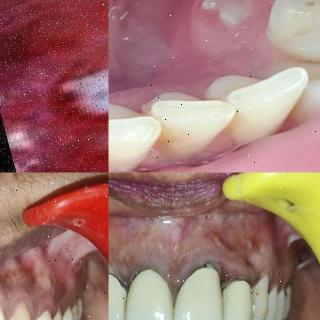Gum Swelling: (108, 240, 276, 302), (58, 54, 109, 156), (0, 287, 55, 320)
calculus: (182, 256, 220, 313), (221, 272, 245, 306), (246, 282, 264, 320)
cavities: (280, 286, 292, 304)
maligned: (266, 30, 320, 128), (193, 0, 264, 58)
